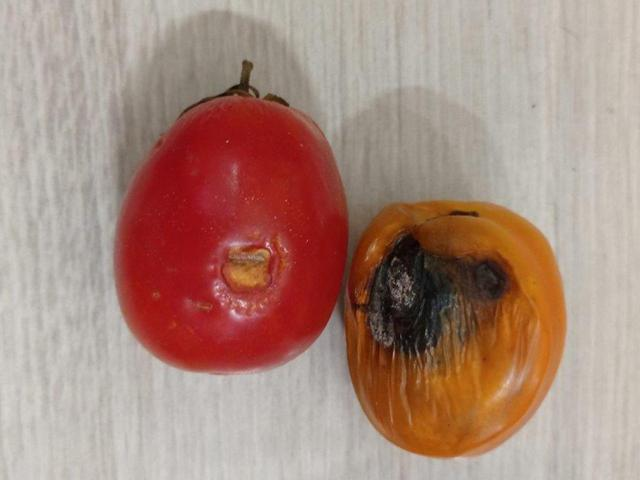defect: (120, 87, 344, 375), (343, 189, 569, 461)
